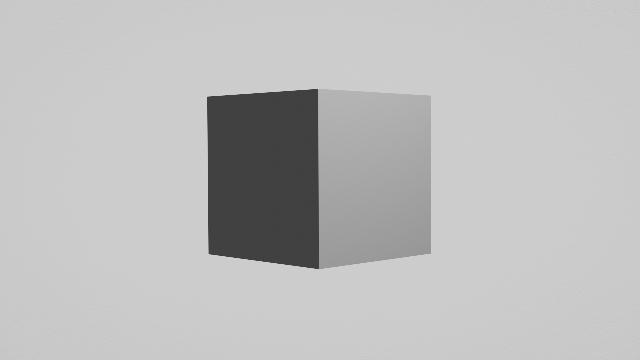Cube: (197, 83, 458, 281)
